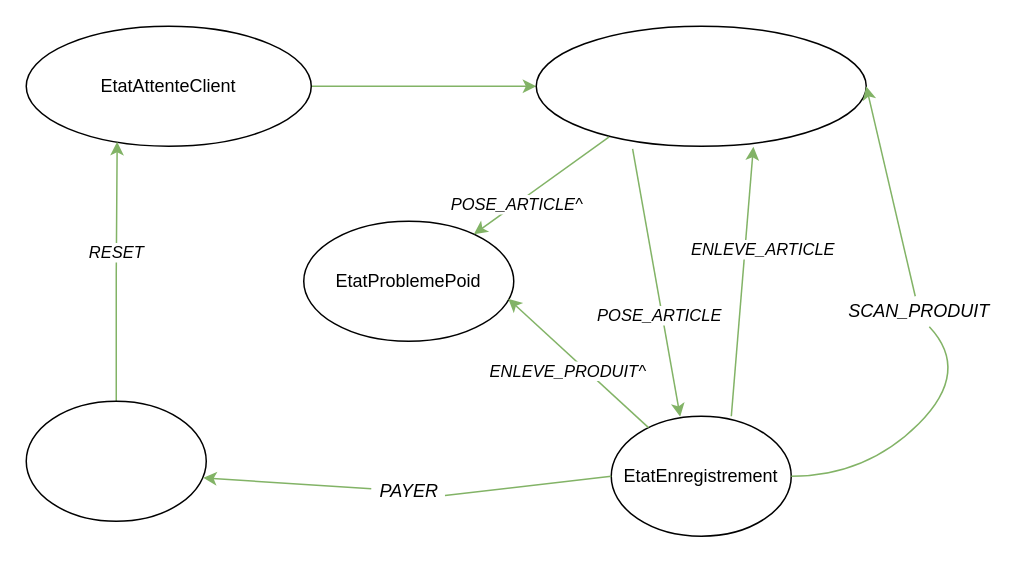
This 1028x563 diagram has some shape labels left out. Each missing label, with the centre of its shape:
EtatAttenteProduit: [700,85]
EtatFinal: [115,460]
